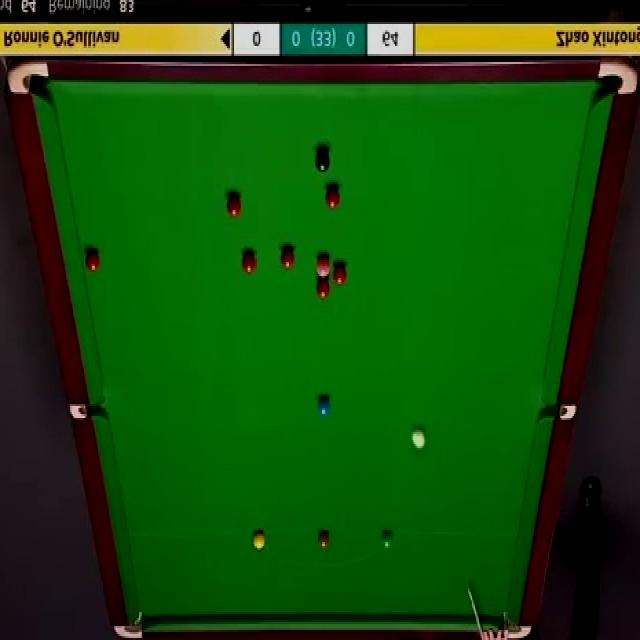black-ball: (315, 149, 331, 175)
blue-ball: (317, 396, 330, 415)
brown-ball: (317, 531, 331, 549)
green-ball: (380, 530, 395, 552)
pink-ball: (315, 256, 330, 276)
red-ball: (332, 263, 348, 288), (84, 250, 100, 273), (325, 186, 340, 210), (316, 278, 331, 300), (242, 252, 256, 275), (228, 195, 240, 220), (281, 247, 294, 269)
white-ball: (414, 426, 427, 449)
yellow-ball: (254, 527, 266, 551)
